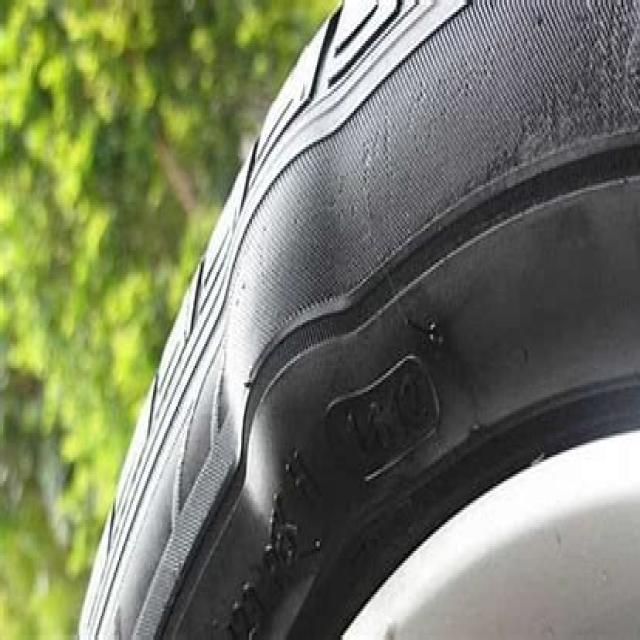Bulge: (216, 148, 392, 570)
